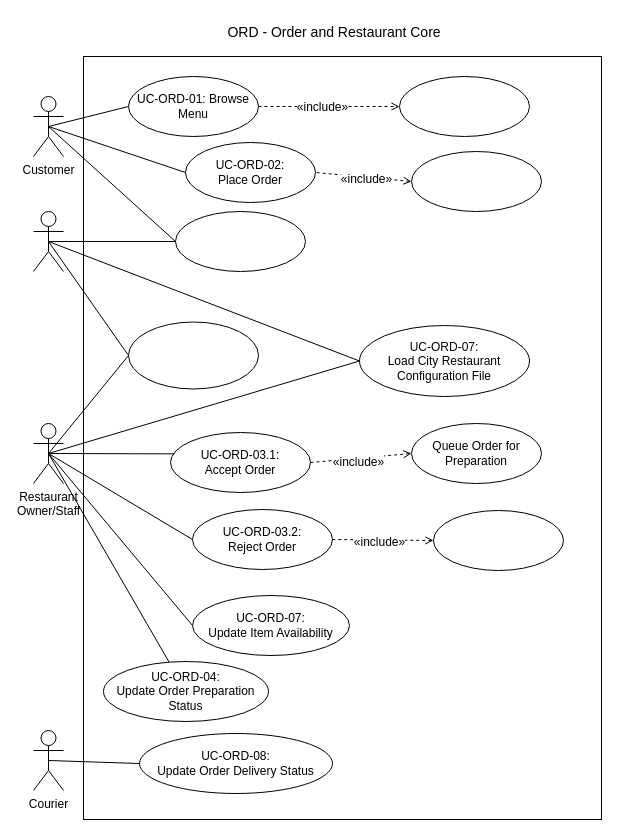
This 619x837 diagram has some shape labels left out. The shapes that lost their labels are listed below. From the top down, each one's centre as x and y in pixels, then its label:
point (464, 106): Check Restaurant Status
point (476, 181): Validate Item Availability
point (48, 241): Operator
point (240, 241): UC-ORD-05: Cancel Order
point (193, 355): UC-ORD-06: Change Restaurant Status
point (498, 540): Display Reason
